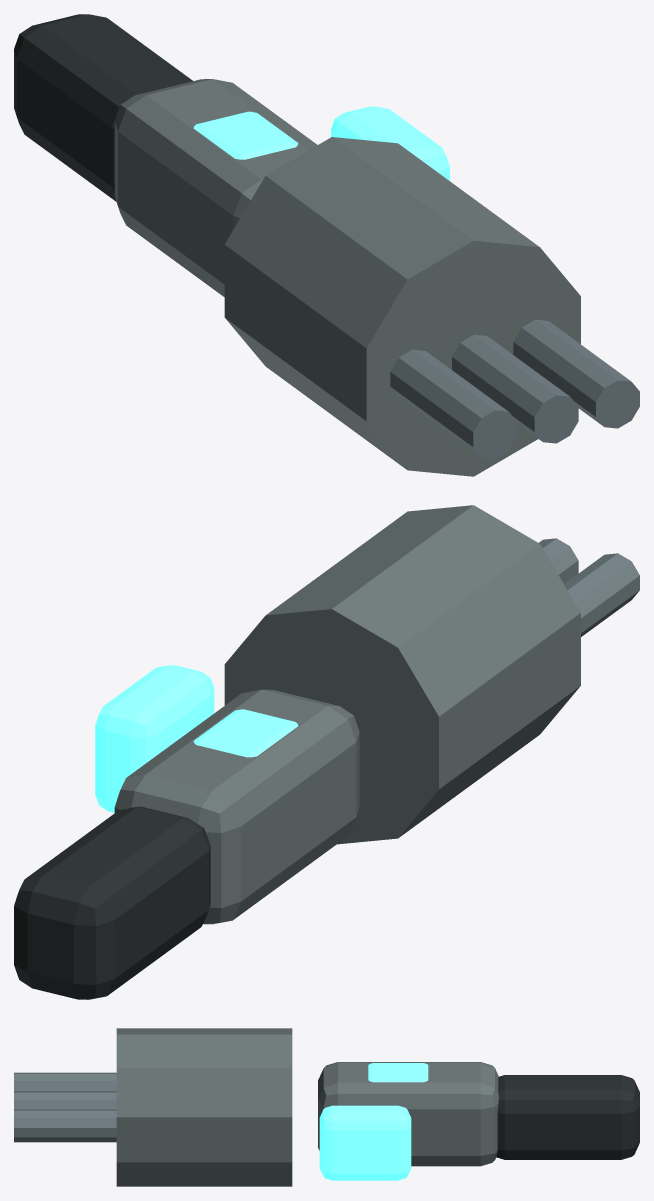
The model's file is thunderstorm.glb.
3 renders of one model, top to bottom at view 1: azimuth 30°, elevation 25°; view 2: azimuth 150°, elevation 25°; view 3: azimuth 270°, elevation 25°, orthographic. The views are drawn at different scales.
Parts seen in each view (by area): view 1: Thunderstorm; view 2: Thunderstorm; view 3: Thunderstorm.
Boxes of the visible parts, x1,y1,x2,y2 form: Thunderstorm: (14,14,639,476); Thunderstorm: (14,505,639,999); Thunderstorm: (14,1028,639,1186).
Size of the model in its own units: 0.4992 by 0.44 by 1.71.
